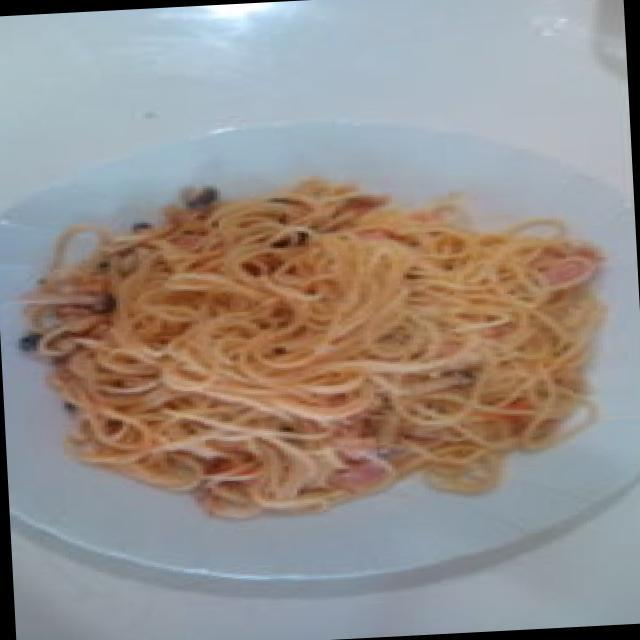Pasta: (21, 174, 630, 527)
